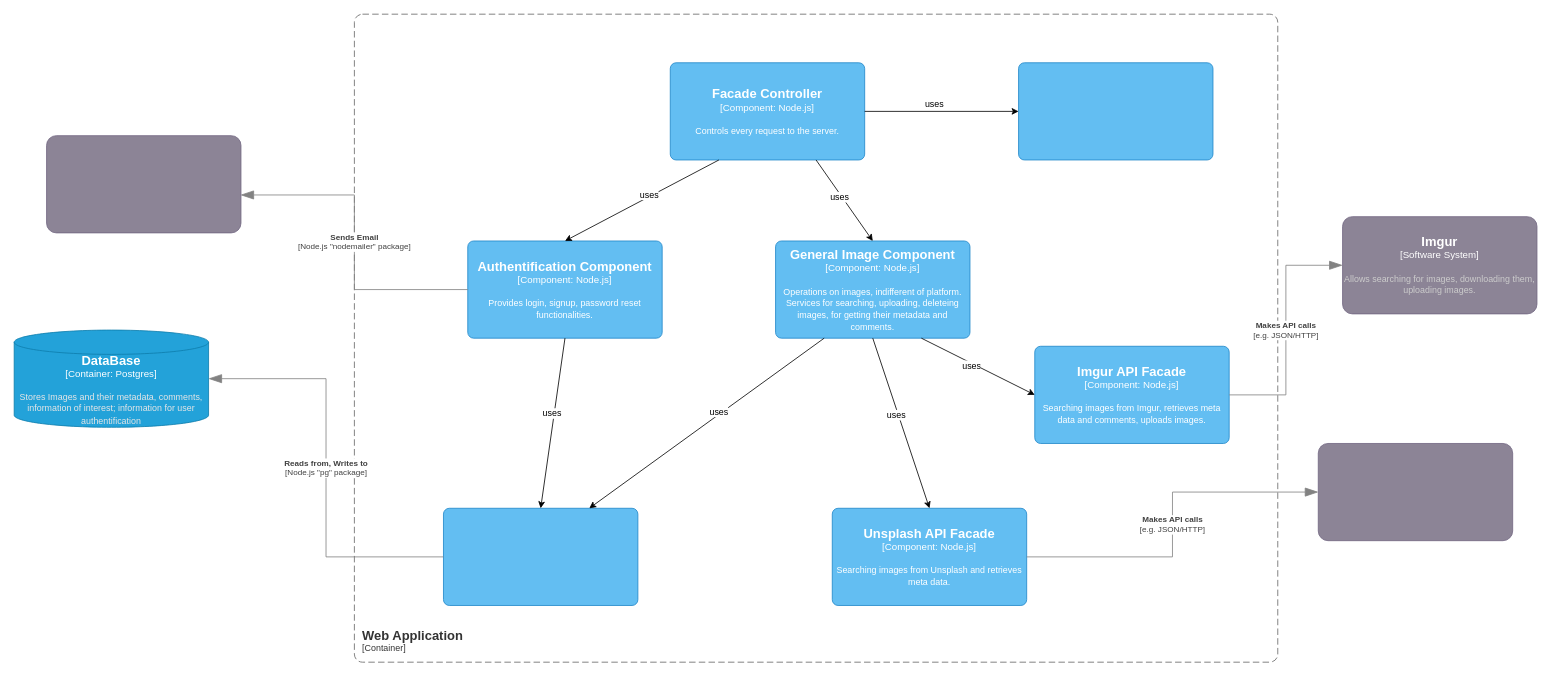
Image size: 1551x676. Some labels were removed from this diagram. Here are the shapes that lost their labels. From the top down, the centre of each, then its label:
At point (1115, 111): "File serving Component [Component: Node.js] Serves html, css and js files.".
At point (143, 184): "Email system. [Software System] Provides email functionality.".
At point (1415, 492): "Unsplash [Software System] Allows searching for images, downloading them.".
At point (540, 556): "Database Component [Component: Node.js] All database related operations".
